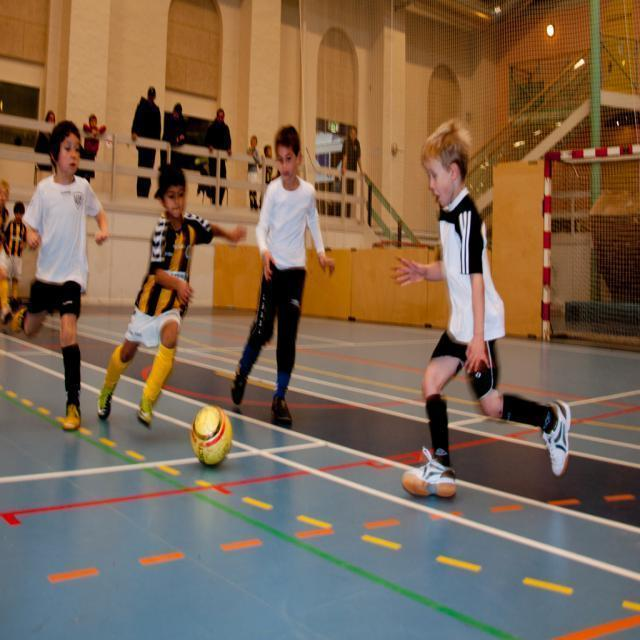ball: (189, 407, 234, 467)
